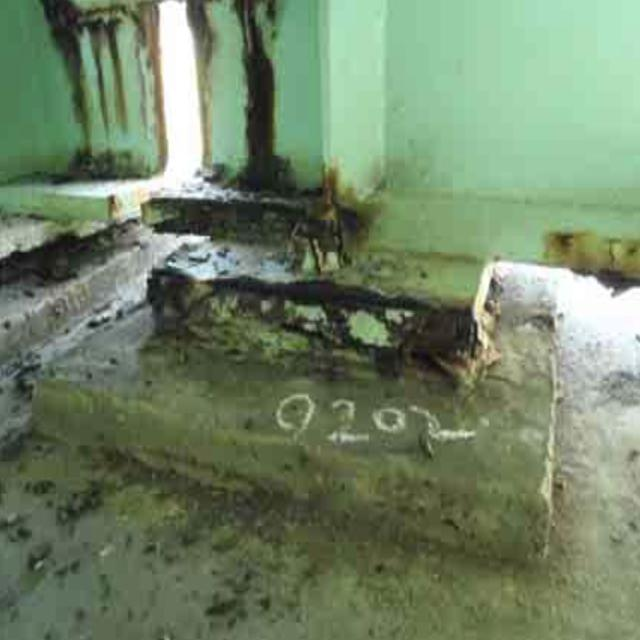corrosion: (53, 7, 481, 367), (537, 220, 640, 299)
